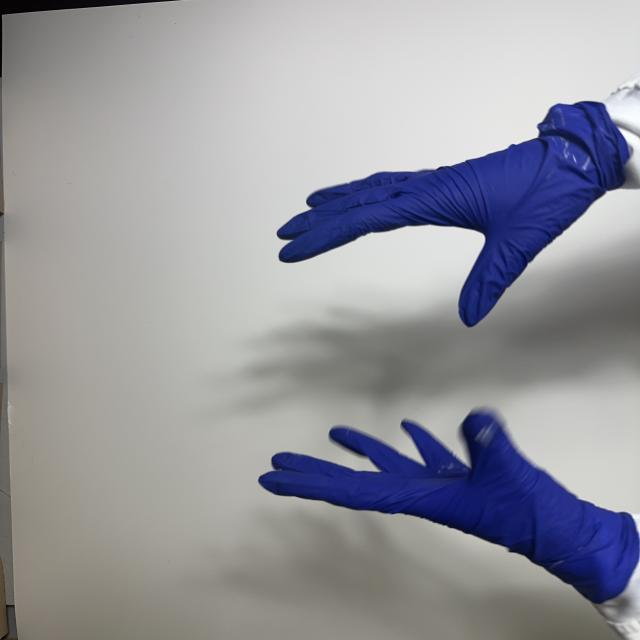gloves_contaminated: (277, 102, 631, 326), (259, 412, 640, 604)
